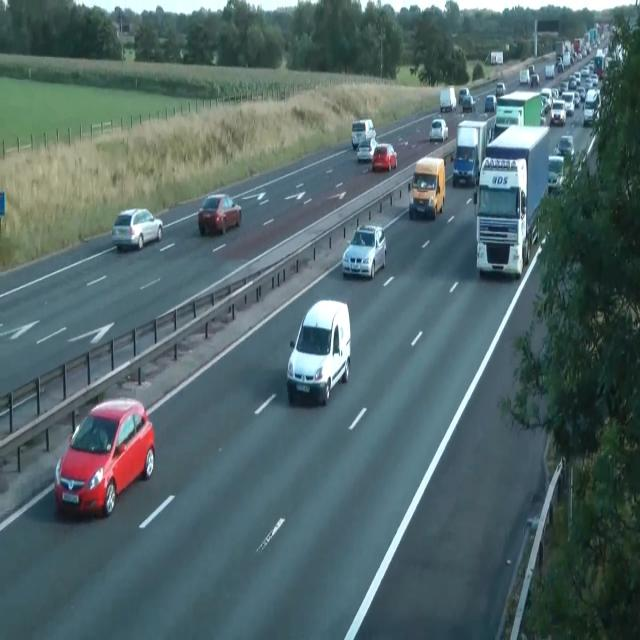bus: (54, 398, 155, 518), (342, 223, 386, 278), (111, 207, 163, 251), (198, 193, 242, 235), (372, 142, 398, 172), (554, 134, 574, 162), (357, 138, 378, 162), (428, 118, 448, 142), (462, 94, 476, 112), (484, 93, 496, 113), (458, 87, 470, 104), (495, 82, 505, 96), (530, 74, 539, 86)
jeep: (286, 298, 351, 405), (407, 156, 445, 220), (350, 118, 376, 150), (547, 154, 565, 192), (550, 99, 566, 125)
minibus: (473, 124, 549, 278), (452, 116, 493, 186), (494, 90, 544, 137), (439, 85, 456, 113), (554, 41, 570, 67), (490, 51, 503, 65)
